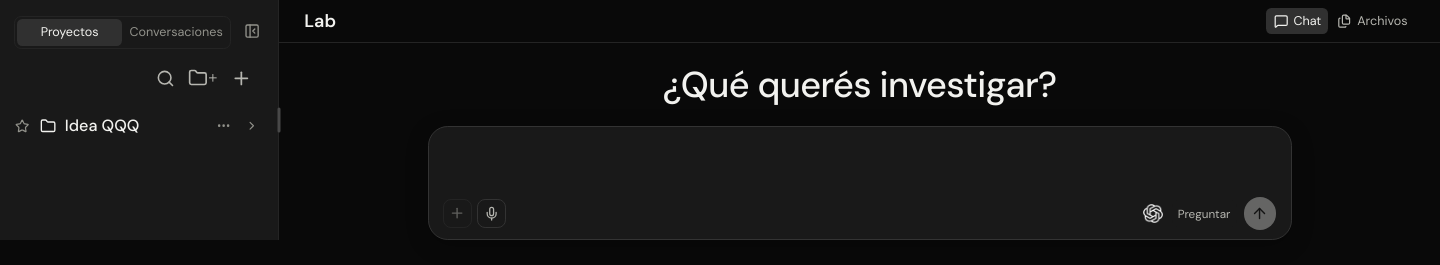
Scenario: un proyecto sin estrategias ni informes dice cómo empezar
Click the button "Idea QQQ". click: (123, 126)
box: [34, 104, 211, 148]
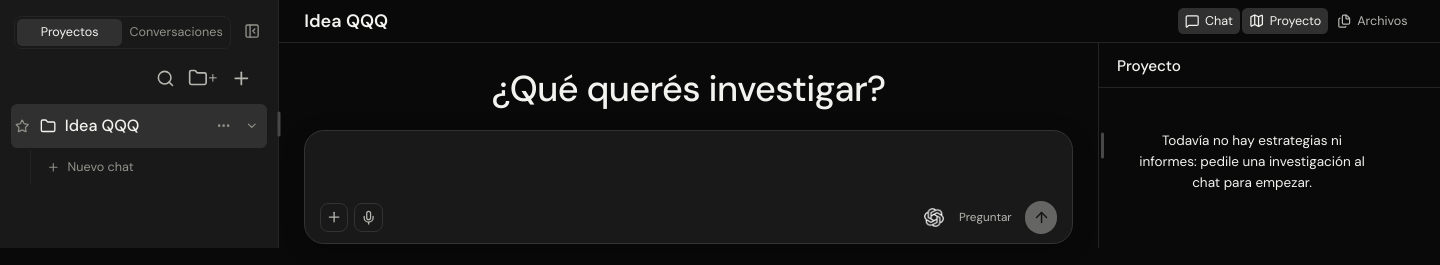
Expected: the text "Todavía no hay estrategias ni informes" is shown, [1139, 132, 1365, 191]
